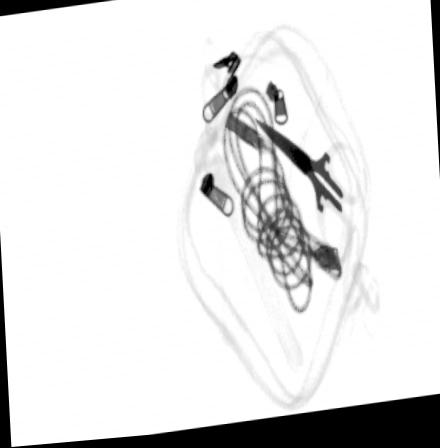Scissors: (254, 120, 366, 272)
